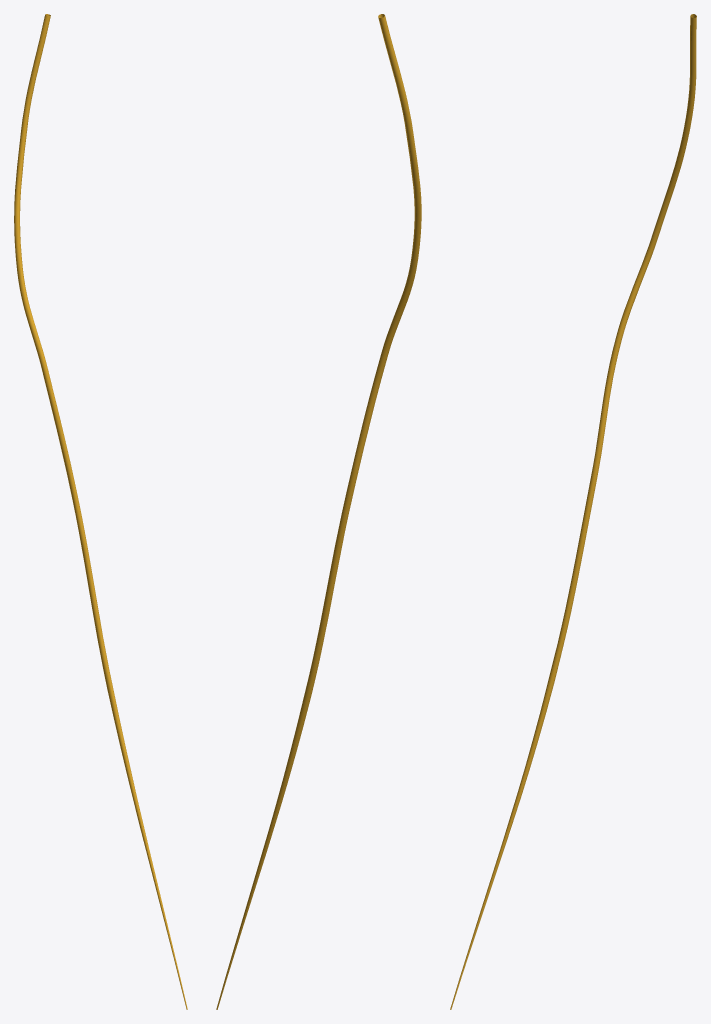
Rendered from nervoso-posterior-interosseous-nerve-of-forearm-l.glb.
The picture shows the model from 3 angles, left to right: view 1: azimuth 30°, elevation 25°; view 2: azimuth 210°, elevation 25°; view 3: azimuth 270°, elevation 25°; orthographic projection. The views are drawn at different scales.
Visible parts, largest first — view 1: Posterior interosseous nerve of forearm.l; view 2: Posterior interosseous nerve of forearm.l; view 3: Posterior interosseous nerve of forearm.l.
Boxes of the visible parts, x1,y1,x2,y2 form: Posterior interosseous nerve of forearm.l: [14, 14, 187, 1009]; Posterior interosseous nerve of forearm.l: [216, 14, 421, 1009]; Posterior interosseous nerve of forearm.l: [450, 14, 696, 1009].
Size of the model in its own units: 0.0143 by 0.1673 by 0.0381.
